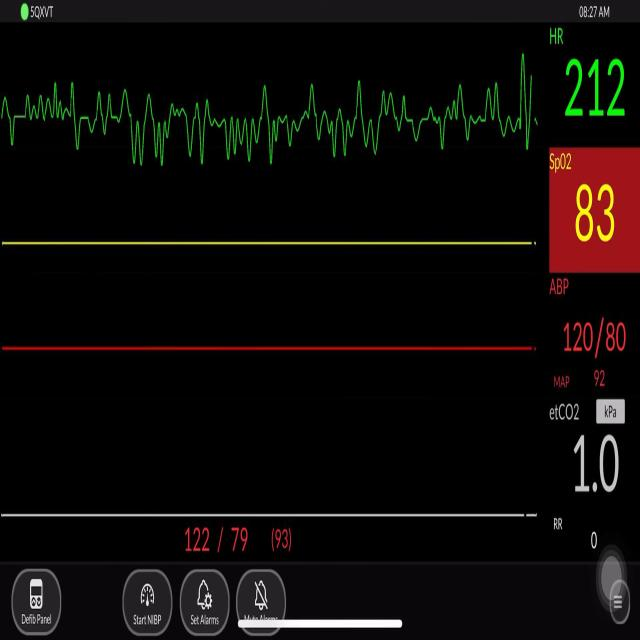danger: (5, 67, 536, 173)
